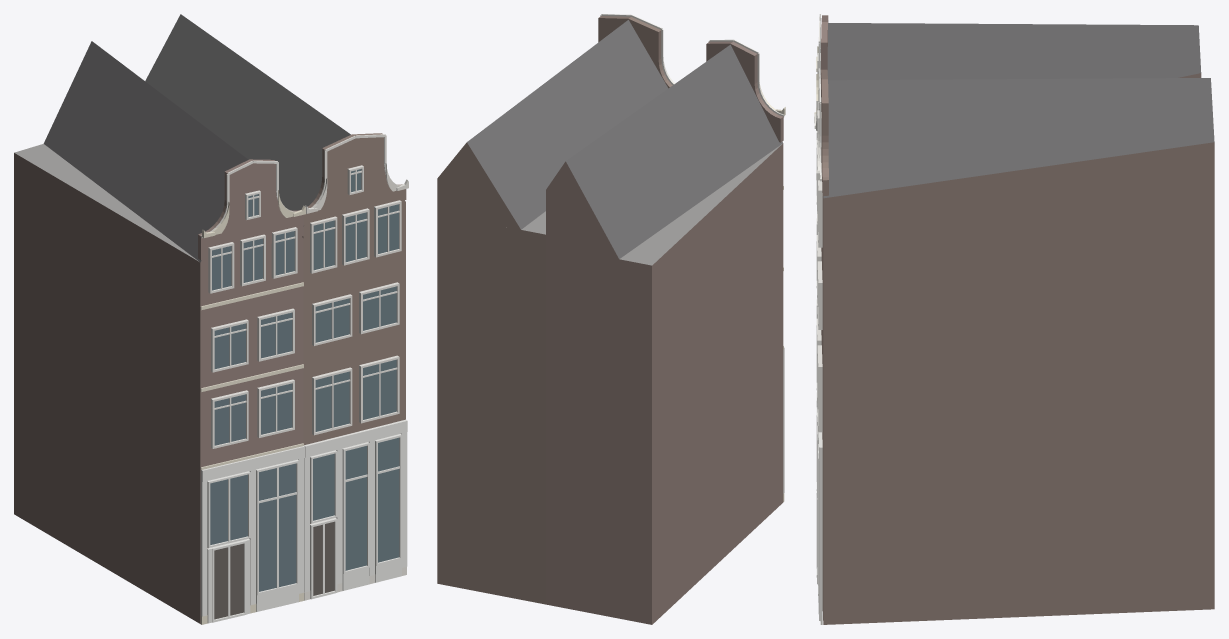
File: chunk-face-achterburgwal-167-169.glb
3 renders of one model, left to right at view 1: azimuth 30°, elevation 25°; view 2: azimuth 150°, elevation 25°; view 3: azimuth 270°, elevation 25°, orthographic. The views are drawn at different scales.
Visible parts, largest first — view 1: face-achterburgwal-167-169; view 2: face-achterburgwal-167-169; view 3: face-achterburgwal-167-169.
Part boxes in pixels (<box>): face-achterburgwal-167-169: <box>14,14,408,624</box>; face-achterburgwal-167-169: <box>437,14,785,624</box>; face-achterburgwal-167-169: <box>814,14,1214,624</box>.
Bounding box in the file's own units: 8.58 × 15.91 × 11.14.
